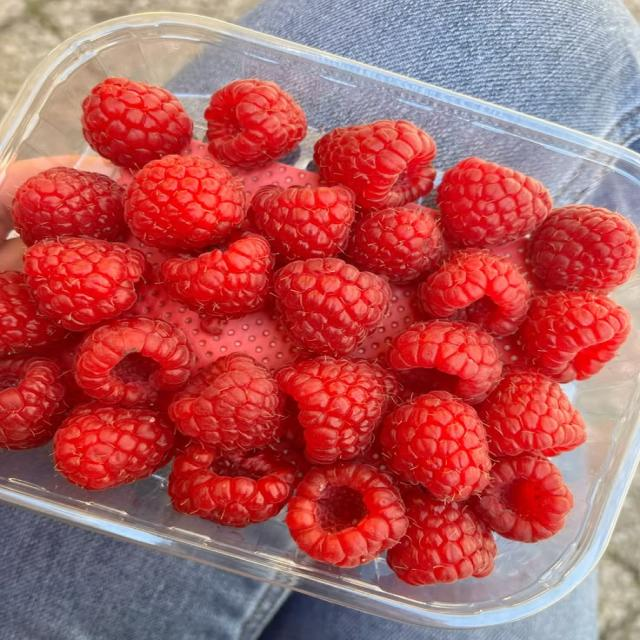raspberry: (287, 462, 407, 566), (380, 392, 491, 500), (276, 357, 388, 463), (24, 237, 146, 331), (168, 352, 283, 451), (274, 258, 391, 355), (125, 156, 246, 249), (314, 120, 436, 209), (168, 444, 295, 527), (75, 318, 194, 406), (54, 403, 174, 489), (437, 158, 552, 247), (387, 492, 497, 585), (82, 78, 193, 169), (520, 292, 630, 382), (529, 205, 639, 293), (419, 250, 530, 335), (388, 320, 501, 403), (476, 372, 586, 457), (162, 234, 274, 317), (470, 453, 573, 542), (205, 79, 306, 167), (12, 167, 126, 244), (251, 186, 354, 261), (347, 208, 444, 283), (0, 357, 64, 449), (0, 271, 66, 356)
